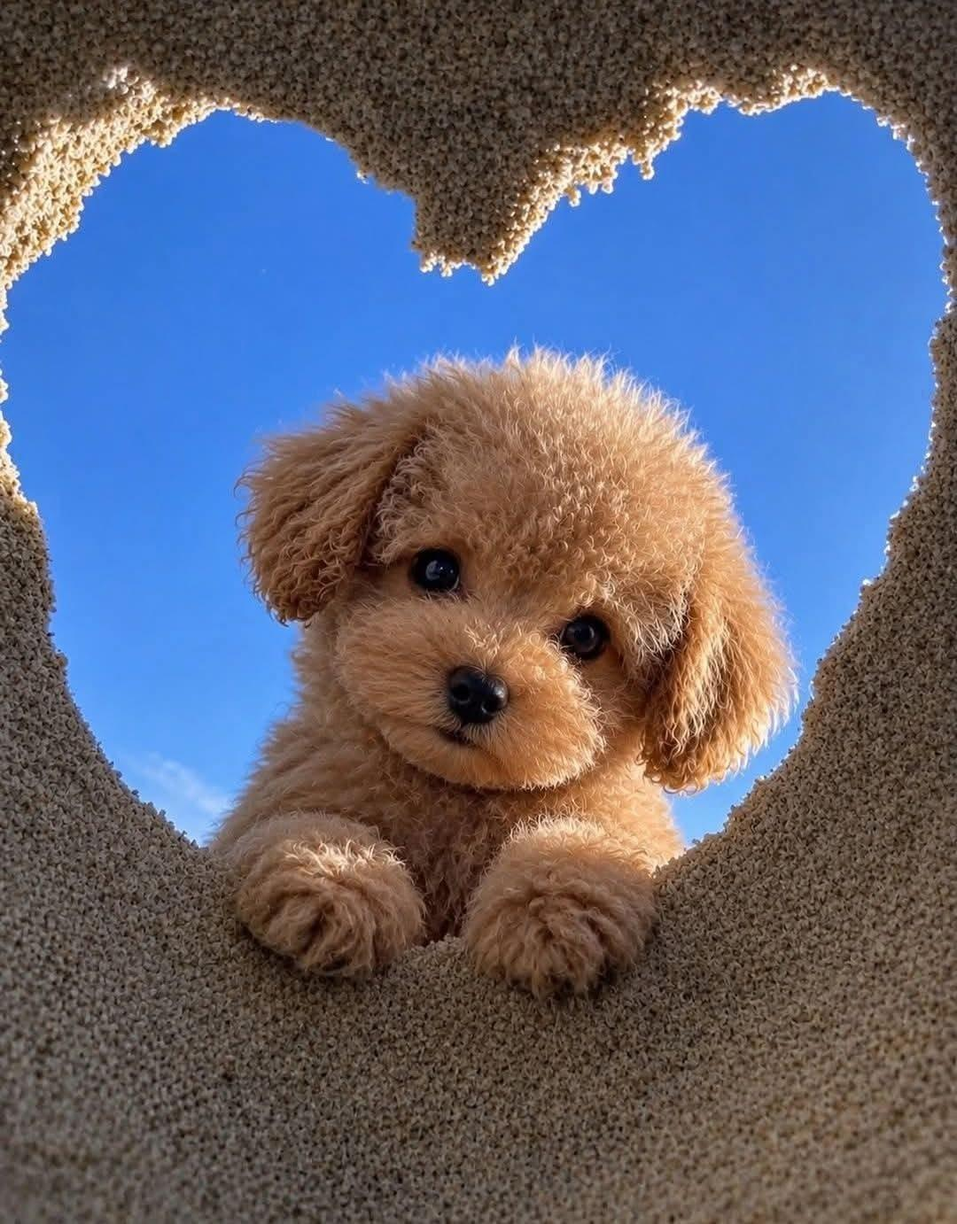puppy-dog: (202, 341, 800, 1009)
